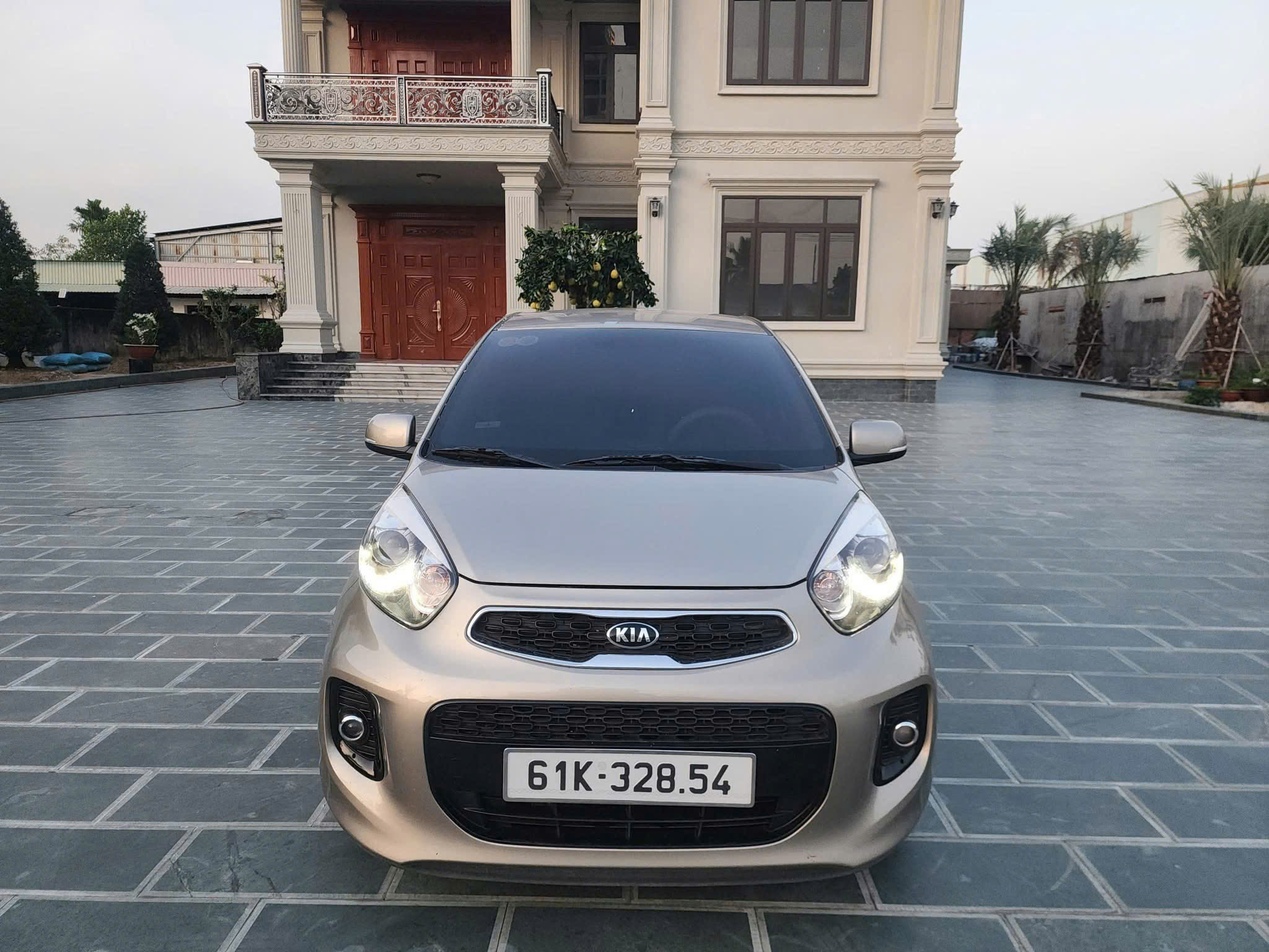Bien-so: (500, 746, 753, 806)
